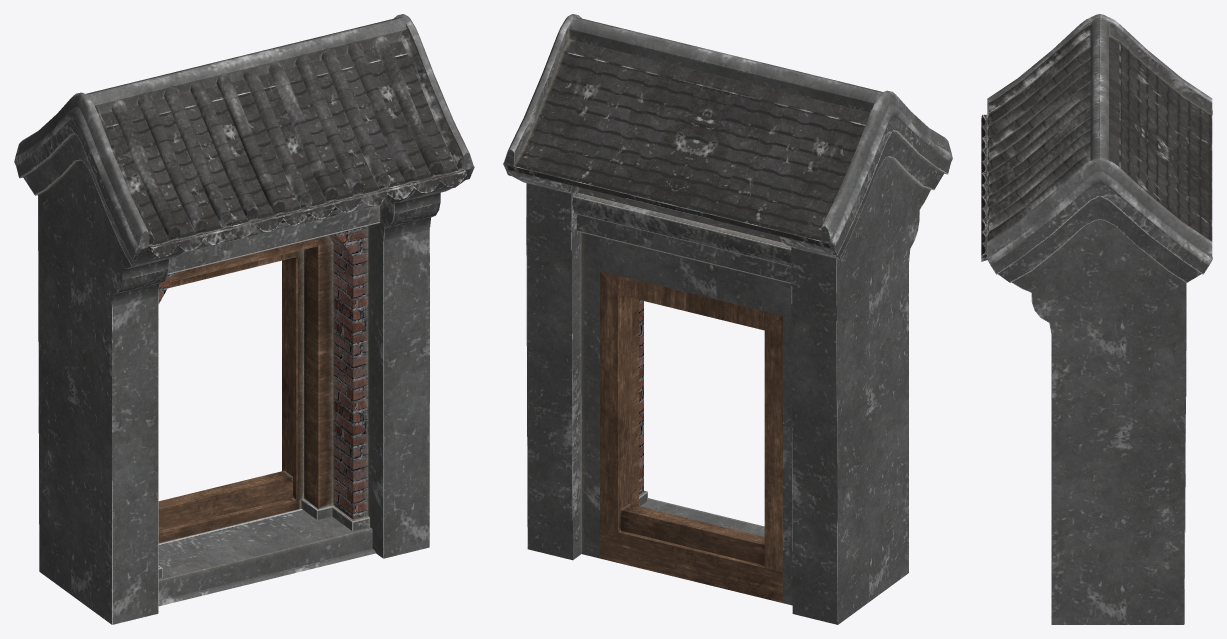
Rendered from hutong_gate_a.fbx.
3 views of the same model, side by side, from view 1: azimuth 30°, elevation 25°; view 2: azimuth 150°, elevation 25°; view 3: azimuth 270°, elevation 25° (orthographic). The views are drawn at different scales.
Parts seen in each view (by area): view 1: geo_gate_a; view 2: geo_gate_a; view 3: geo_gate_a.
Part boxes in pixels (left/top/right/bottom): geo_gate_a: left=14, top=14, right=474, bottom=624; geo_gate_a: left=503, top=14, right=952, bottom=624; geo_gate_a: left=981, top=14, right=1212, bottom=624.
Size of the model in its own units: 273 by 392 by 175.
Materials: 1 (1 with a texture image).
